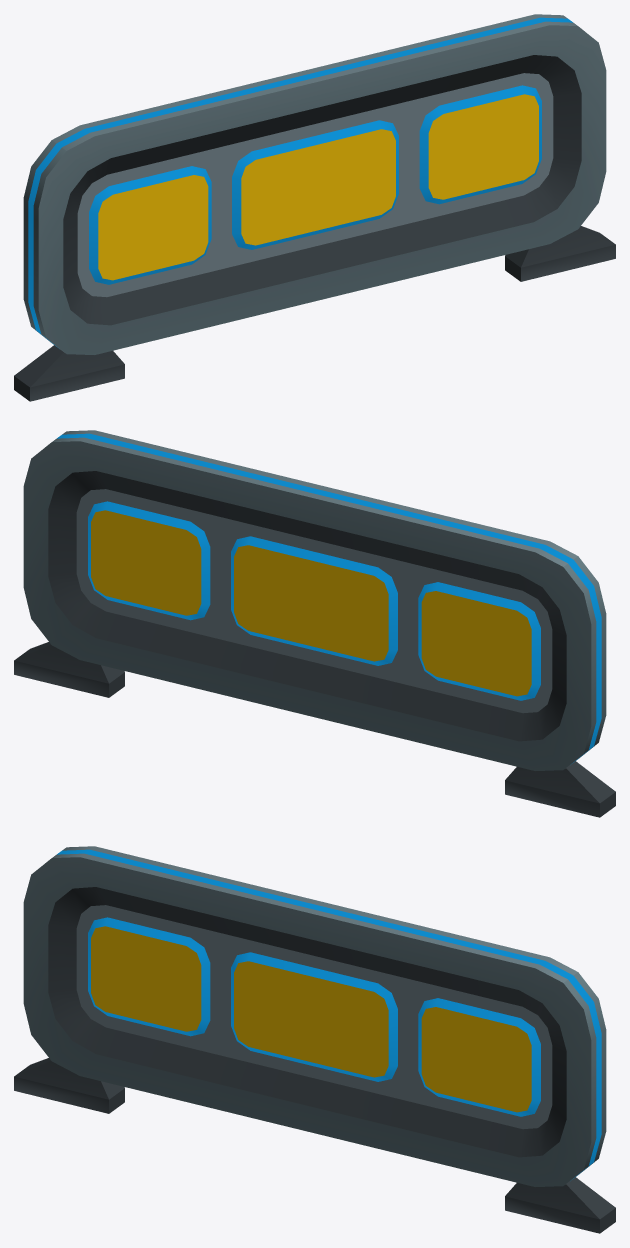
The model's file is Fence_type_C_013.glb.
3 renders of one model, top to bottom at view 1: azimuth 30°, elevation 25°; view 2: azimuth 150°, elevation 25°; view 3: azimuth 330°, elevation 25°, orthographic.
Parts seen in each view (by area): view 1: Fence_type_C_013; view 2: Fence_type_C_013; view 3: Fence_type_C_013.
Part boxes in pixels (box(x1,y1,x2,y2)): Fence_type_C_013: box(14, 14, 615, 401); Fence_type_C_013: box(14, 430, 615, 817); Fence_type_C_013: box(14, 846, 615, 1233).
Size of the model in its own units: 3.48 by 1.41 by 0.1653.
Materials: 2 (2 with a texture image).
